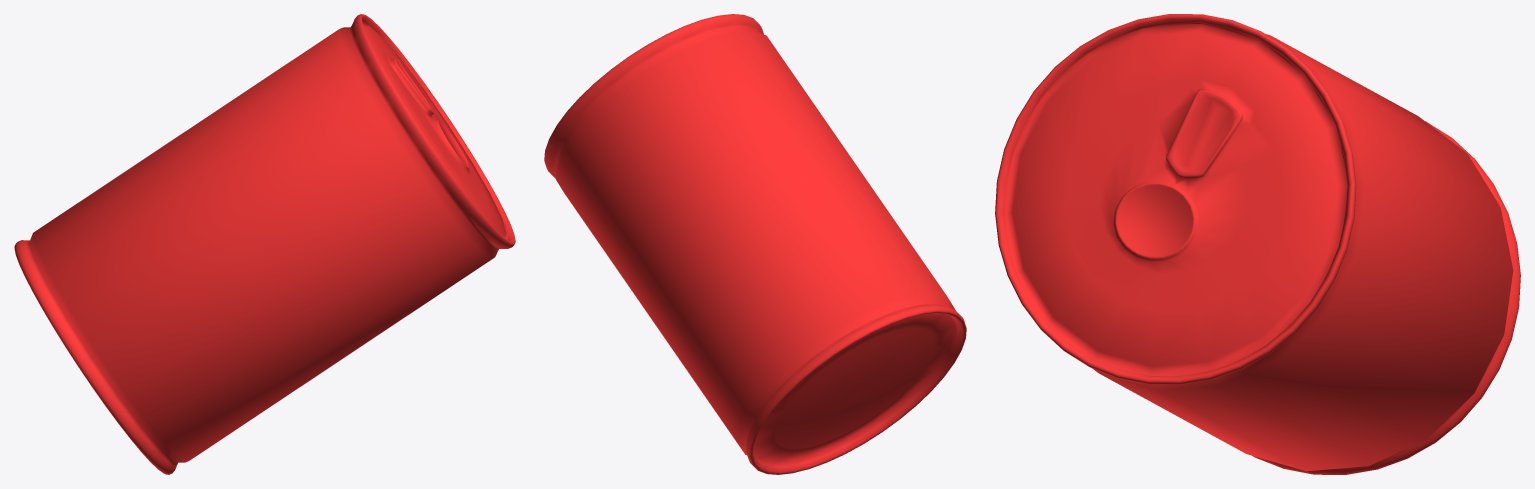
File: Can.fbx
The picture shows the model from 3 angles, left to right: view 1: azimuth 30°, elevation 25°; view 2: azimuth 150°, elevation 25°; view 3: azimuth 270°, elevation 25°; orthographic projection. The views are drawn at different scales.
Parts seen in each view (by area): view 1: Can_low; view 2: Can_low; view 3: Can_low.
Boxes of the visible parts, x1,y1,x2,y2 form: Can_low: (14, 14, 515, 474); Can_low: (544, 14, 966, 474); Can_low: (995, 14, 1520, 474).
Size of the model in its own units: 126 by 116 by 98.13.
